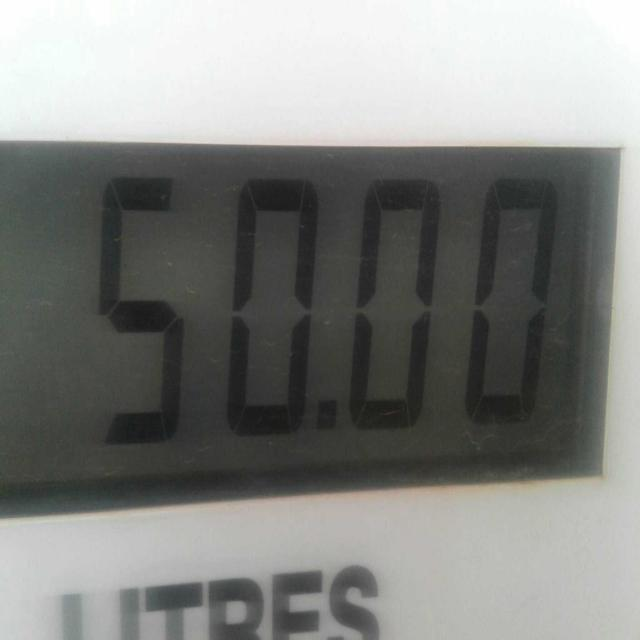.: (317, 394, 347, 438)
0: (223, 173, 326, 444), (463, 176, 564, 433), (345, 172, 438, 428)
5: (93, 167, 193, 451)
screen: (0, 139, 621, 516)
